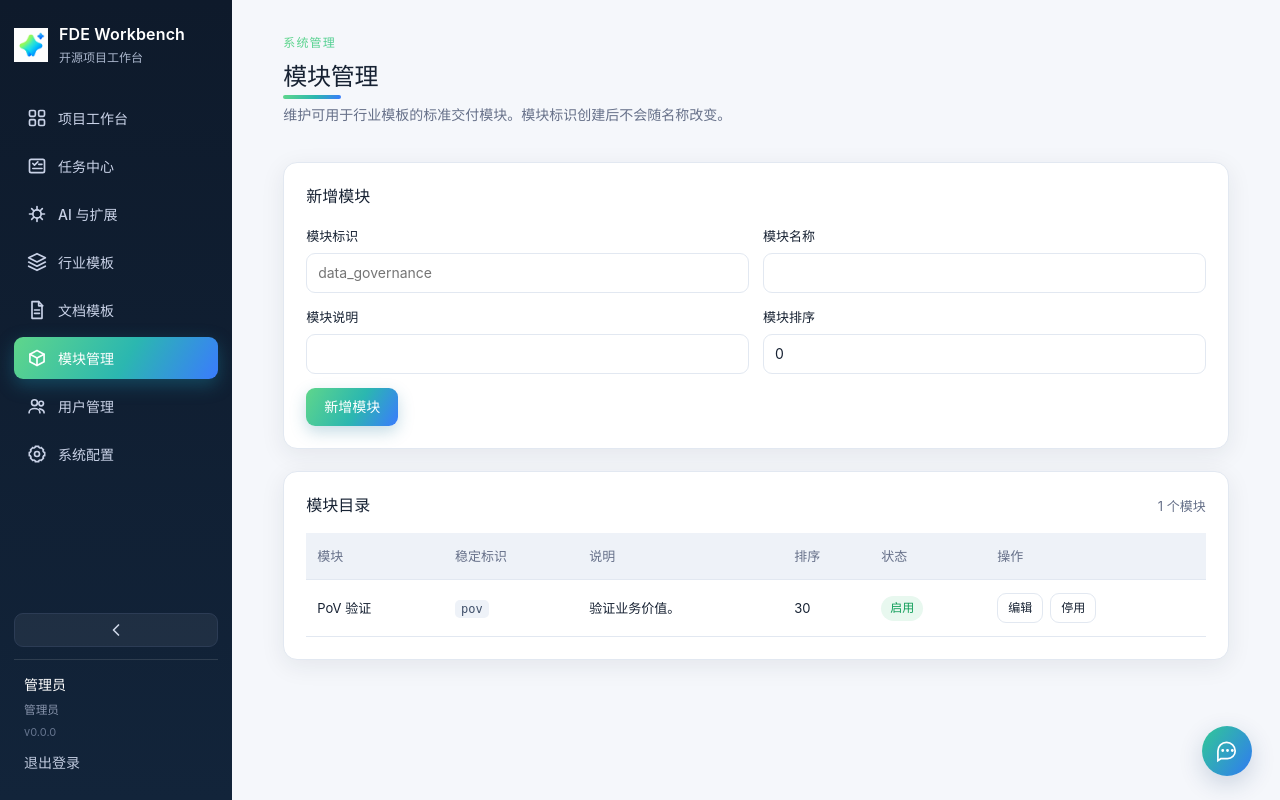
Test: 模块目录管理 › 编辑名称时保持模块 key 只读且不发送 key
The width and height of the screenshot is (1280, 800).
Click the button with aria-label "编辑 PoV 验证" at (1020, 608), box [997,593,1043,623]
(page scrolled)
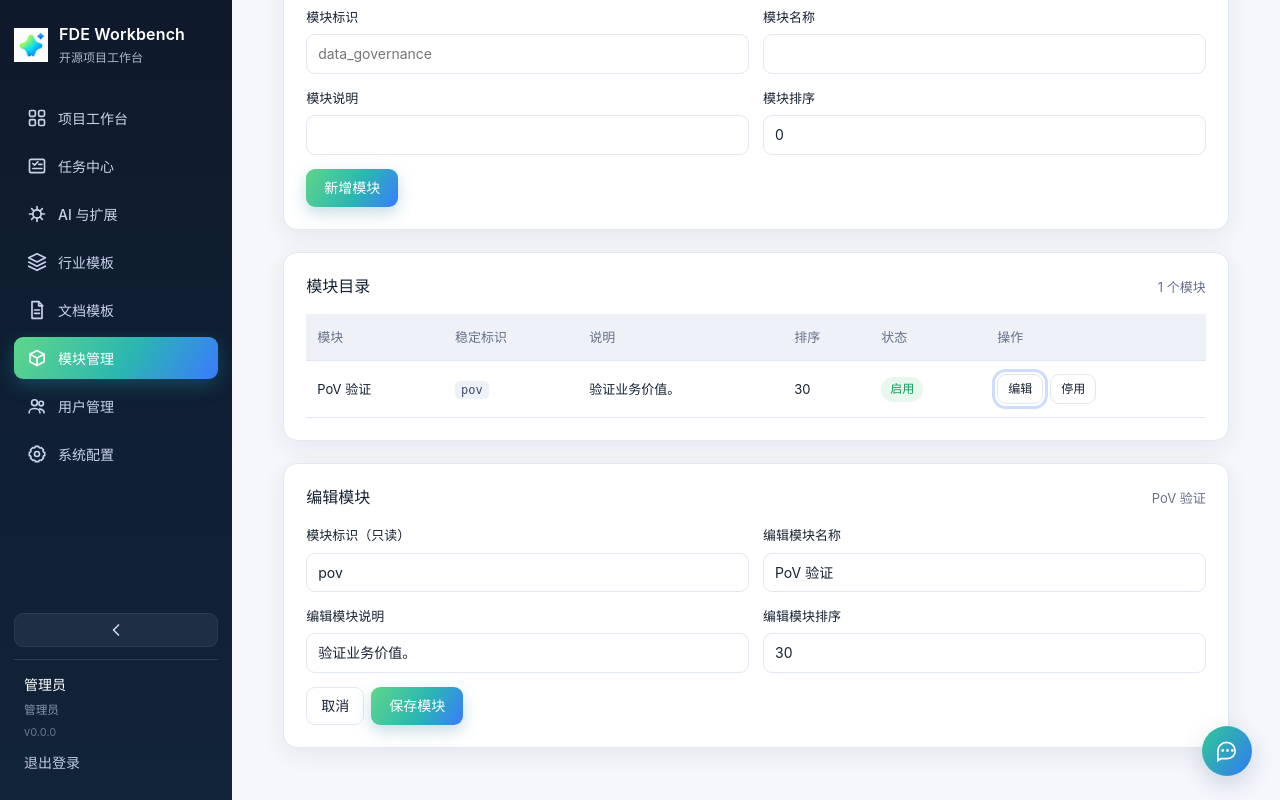
Expected: the field labelled "模块标识（只读）" holds "pov", [306,553,749,592]
Replace the text in the field labelled "编辑模块名称" with "价值验证" at (984, 572), box [763,553,1206,592]
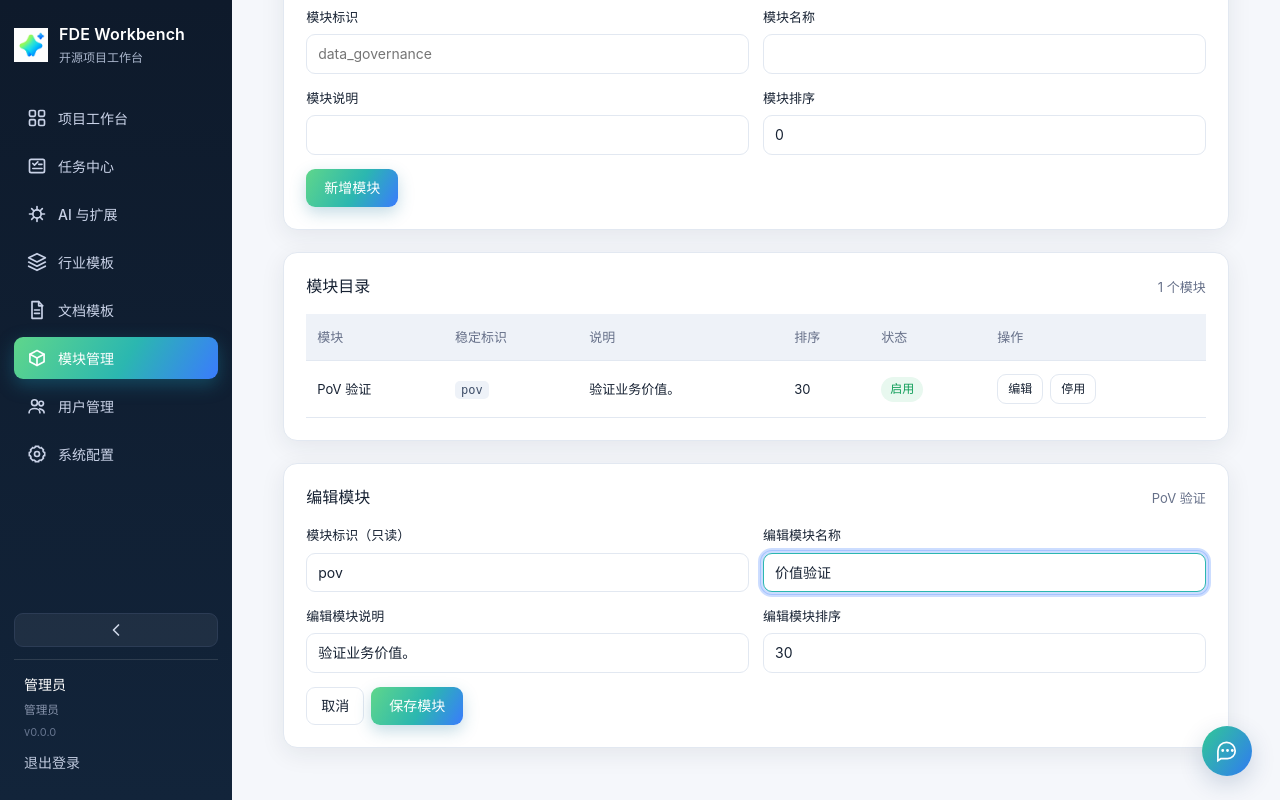
Click the button "保存模块" at (417, 706), box [371,687,463,725]
(page scrolled)
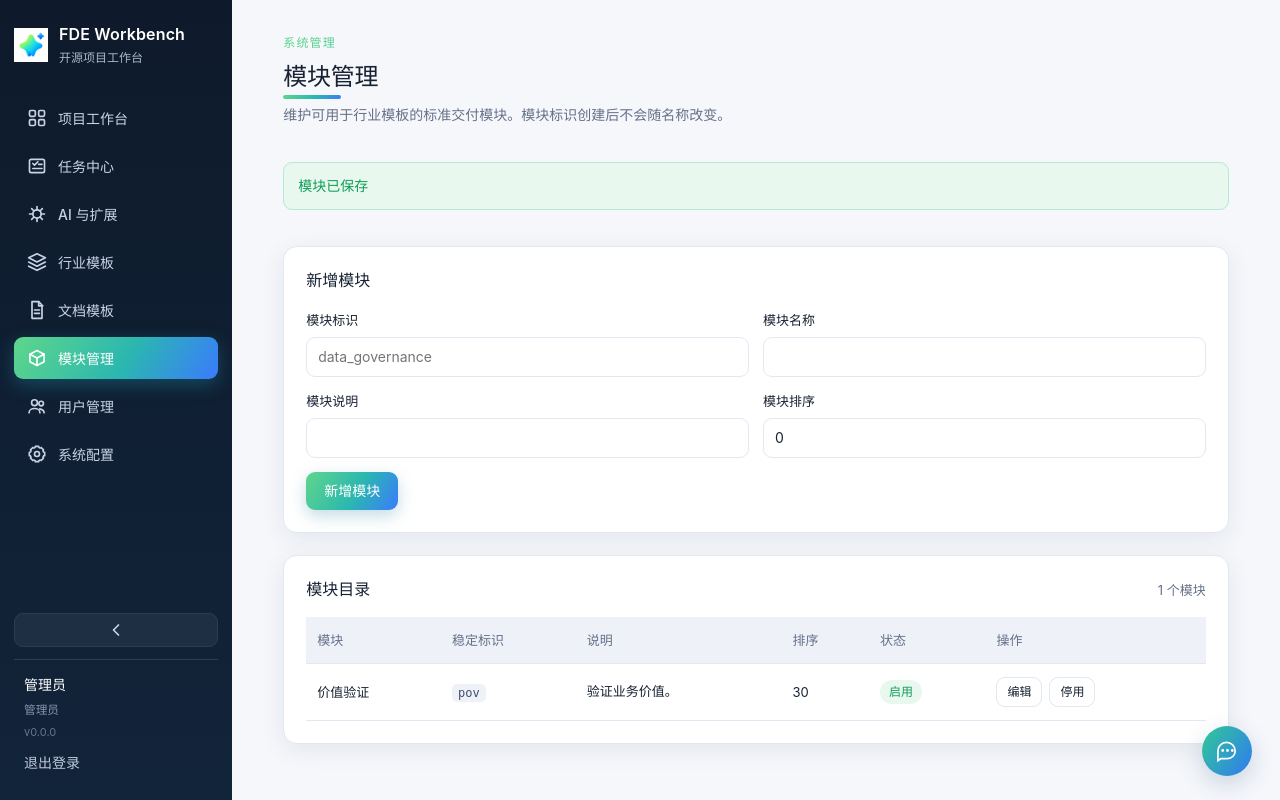
Expected: the text "pov" is shown, [452,684,486,702]
Expected: the text "模块已保存" is shown, [283,162,1229,210]
